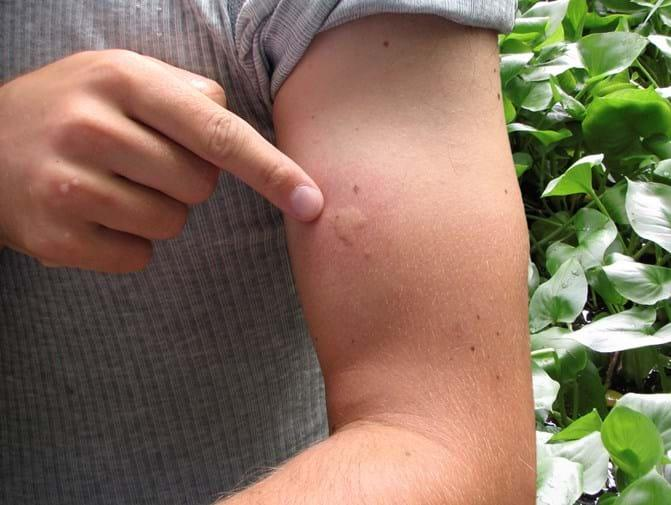Bee-bite: (319, 201, 376, 244)
